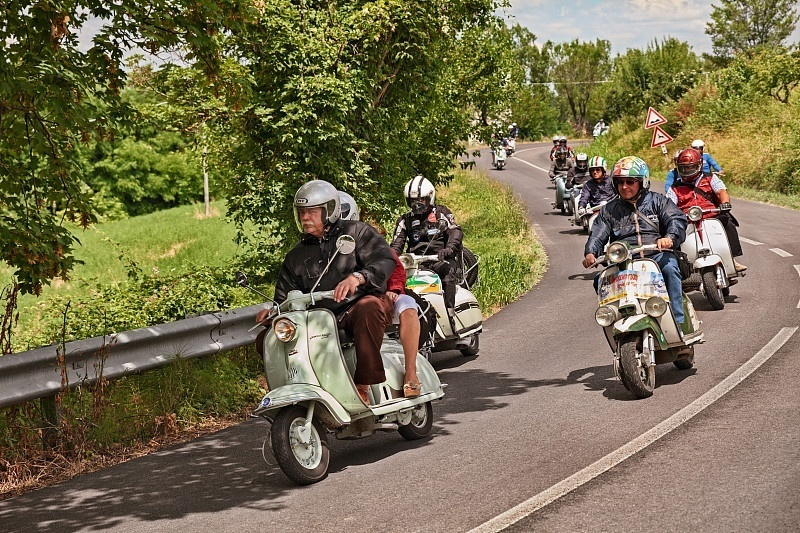non-vehicle: (253, 265, 450, 496), (584, 234, 698, 398), (401, 217, 476, 373), (680, 202, 738, 306), (491, 143, 508, 168)
